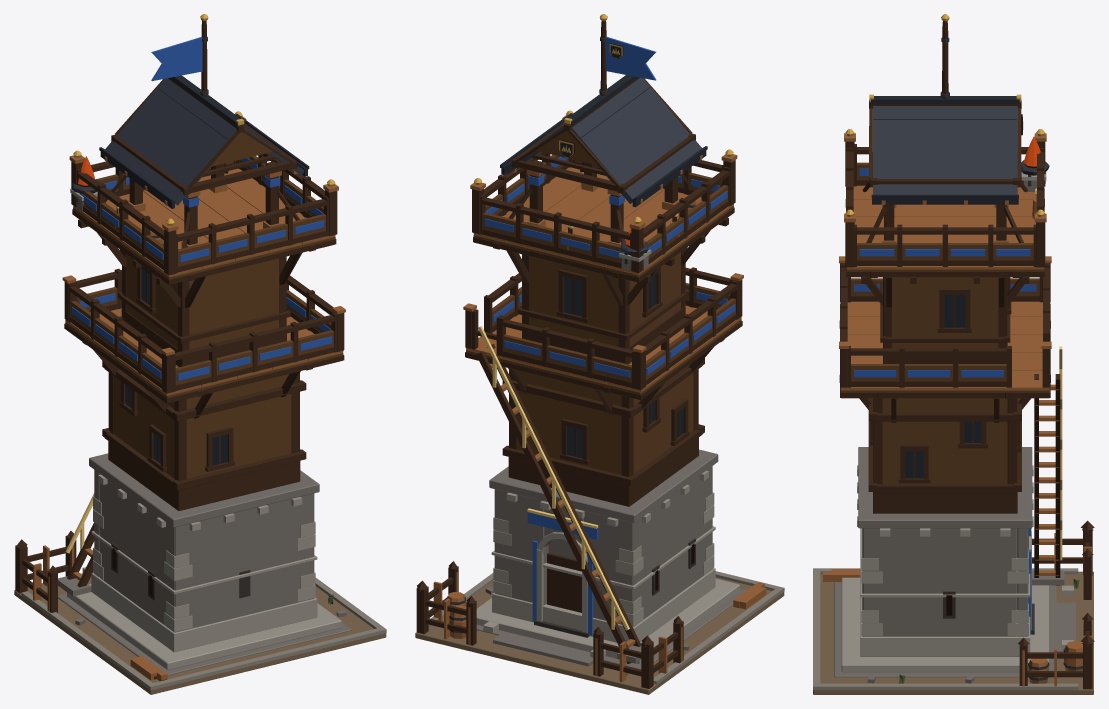
3 renders of one model, left to right at view 1: azimuth 30°, elevation 25°; view 2: azimuth 150°, elevation 25°; view 3: azimuth 270°, elevation 25°, orthographic. The views are drawn at different scales.
Visible parts, largest first — view 1: WT-主体, WT-team, WT-自发光; view 2: WT-主体, WT-team, WT-team_trim, WT-自发光; view 3: WT-主体, WT-team, WT-自发光, WT-team_trim.
Boxes of the visible parts, left/top/right/bottom form: WT-主体: left=14, top=14, right=386, bottom=694; WT-team: left=71, top=37, right=332, bottom=380; WT-自发光: left=78, top=156, right=227, bottom=596; WT-主体: left=415, top=14, right=784, bottom=694; WT-team: left=484, top=36, right=735, bottom=635; WT-team_trim: left=478, top=213, right=677, bottom=630; WT-自发光: left=559, top=43, right=694, bottom=590; WT-主体: left=813, top=14, right=1094, bottom=694; WT-team: left=854, top=168, right=1036, bottom=634; WT-自发光: left=905, top=114, right=1040, bottom=615; WT-team_trim: left=1035, top=188, right=1062, bottom=560.
Bounding box in the file's own units: 7.16 × 17.34 × 7.12.
Materials: 4 (2 with a texture image).
